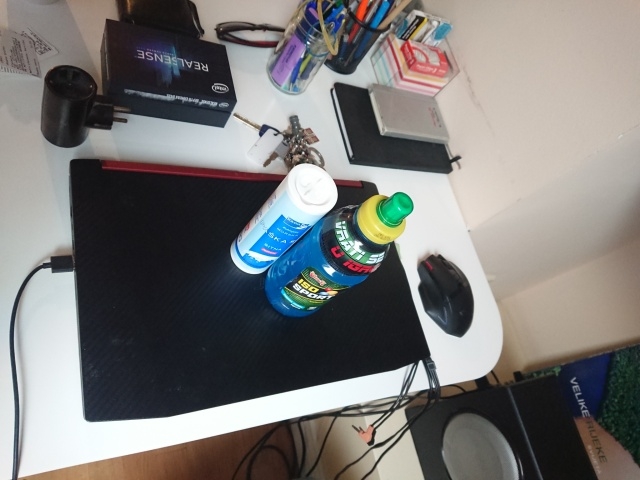Solana Pag Fine Sea Salt 250g: (228, 161, 340, 277)
Vindi Iso Sport Forest Strawberries 500mL: (262, 190, 416, 320)
